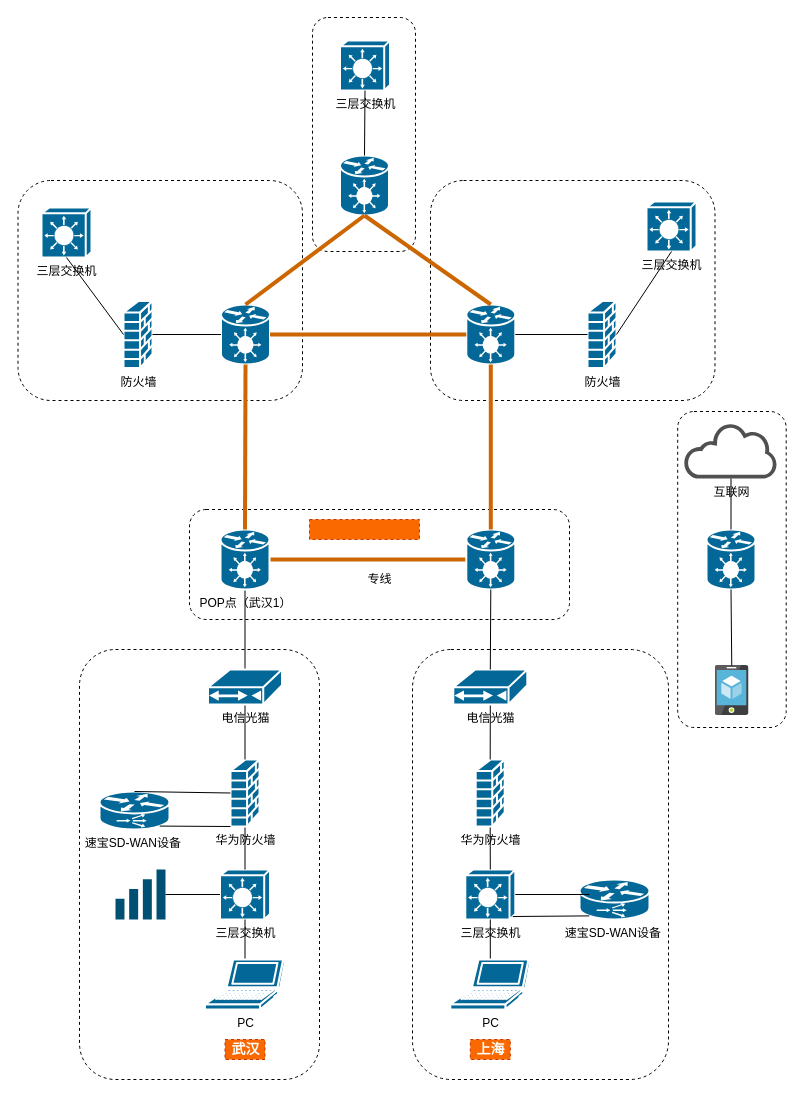
This 804x1097 diagram has some shape labels left out. Here are the shapes that lost their labels. From the top down, the centre of each, then its label:
At (x=364, y=185): "POP点（云IDC6）".
At (x=245, y=334): "POP点（主IDC4）".
At (x=490, y=334): "POP点（备IDC5）".
At (x=364, y=529): "SD-WAN骨干网".
At (x=490, y=559): "POP点（上海2）".
At (x=730, y=559): "POP点（移动3）".
